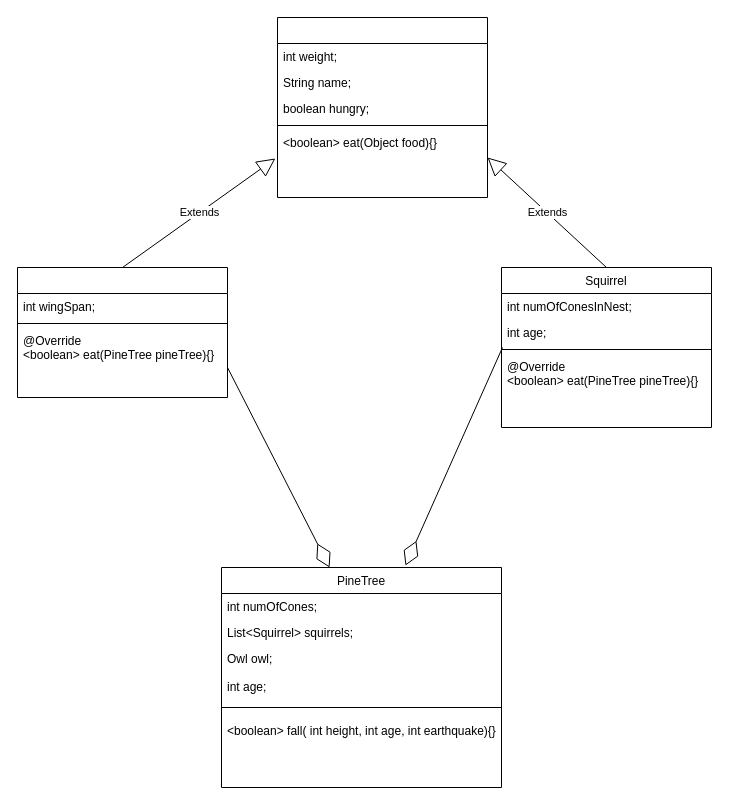
Image size: 729x805. Some labels were removed from this diagram. The box of each missing label's shape, as (x1, y1, x2, y2) in pixels:
Animal: (276, 16, 488, 198)
Owl: (16, 266, 228, 398)
